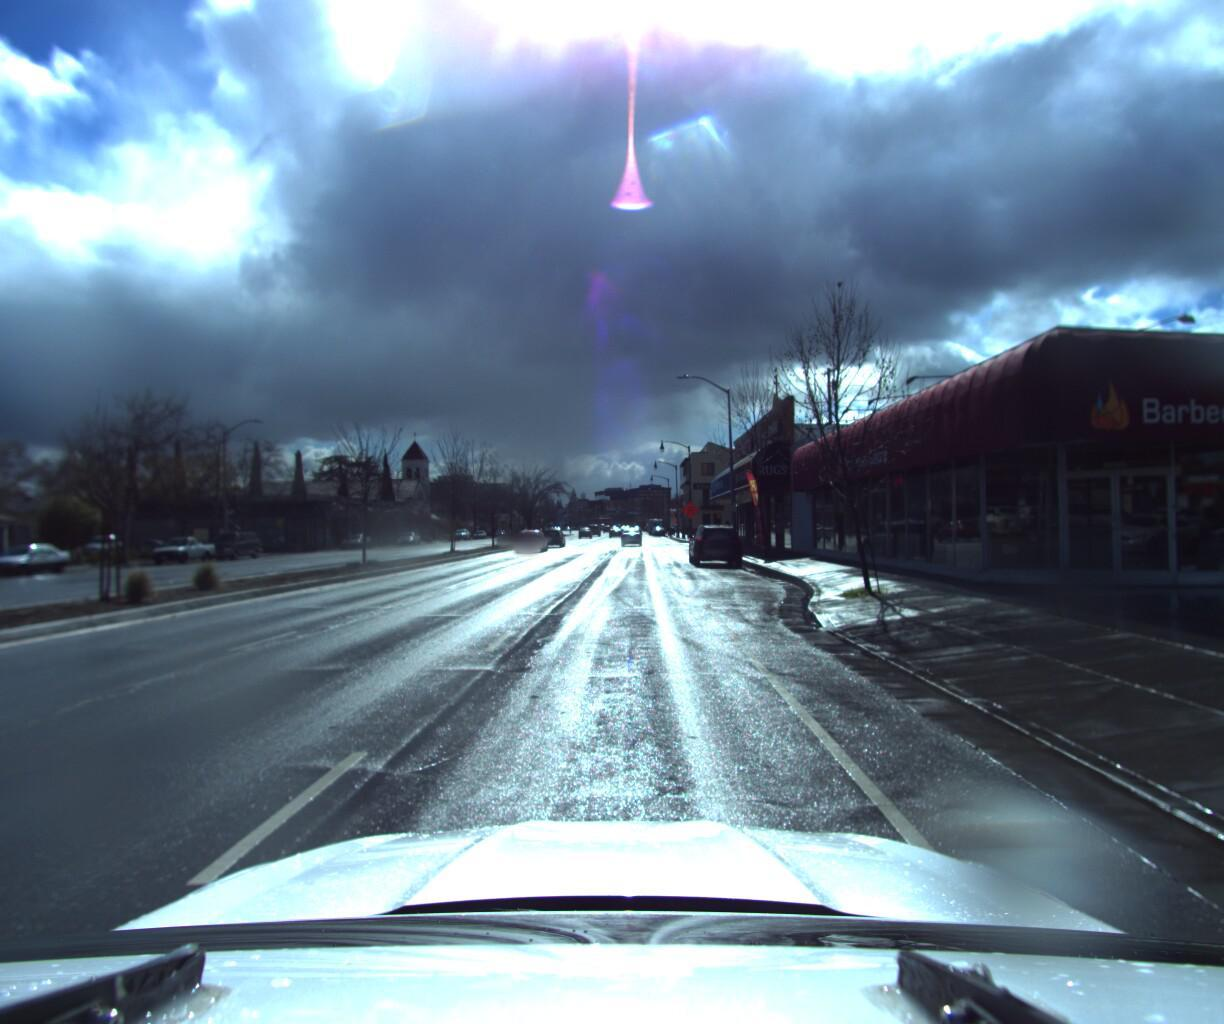car: (0, 542, 80, 582), (686, 519, 742, 563), (143, 534, 218, 566), (202, 532, 265, 561), (109, 537, 162, 566), (514, 526, 549, 551), (542, 526, 570, 547), (621, 523, 645, 543)
